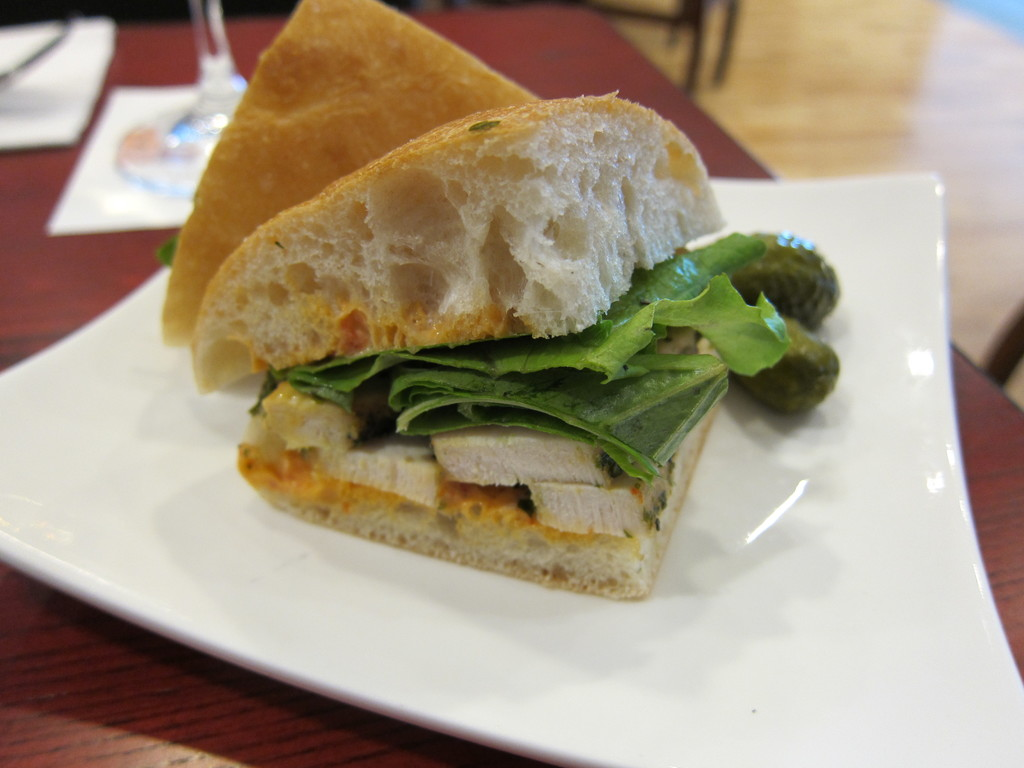sandwich: (188, 92, 836, 600), (159, 0, 548, 347)
